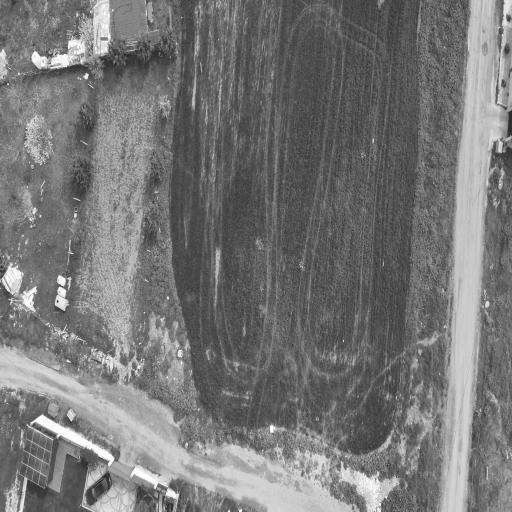car: (85, 473, 111, 504)
